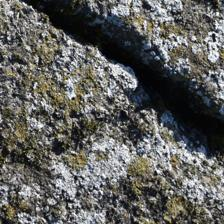Crack: (12, 5, 207, 161)
